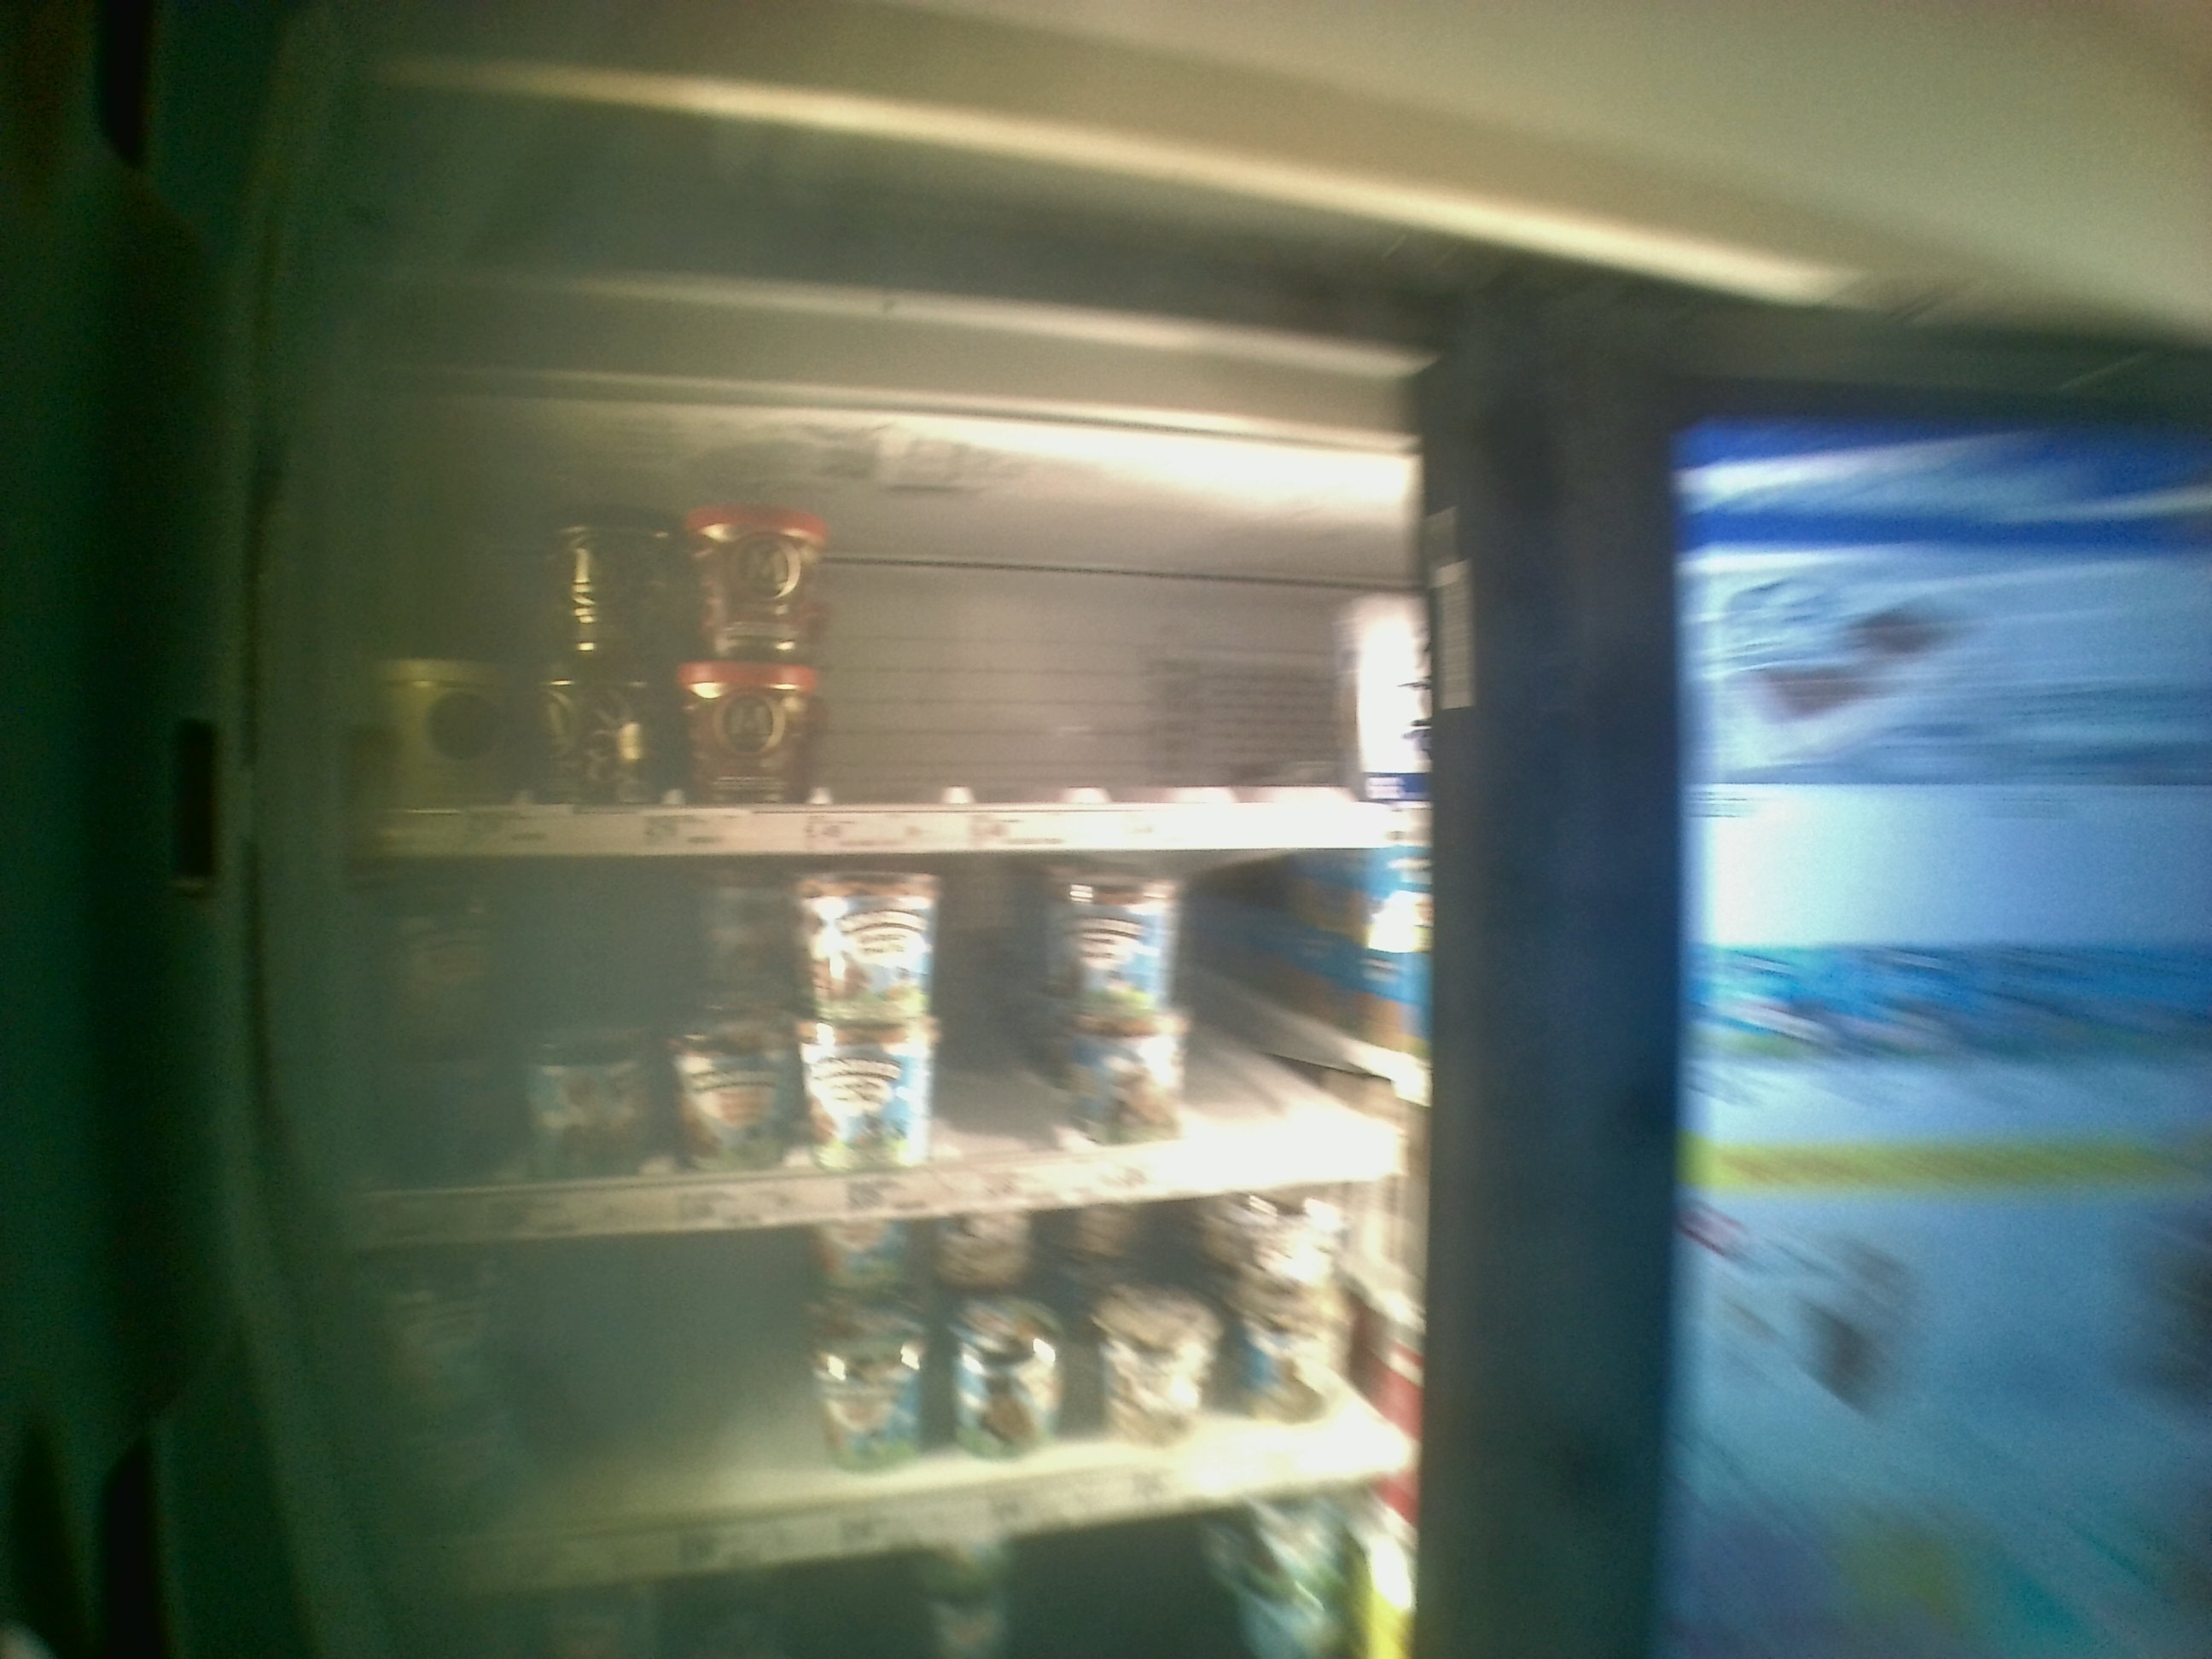shelf: (320, 408, 1426, 847), (329, 849, 1367, 1218)
